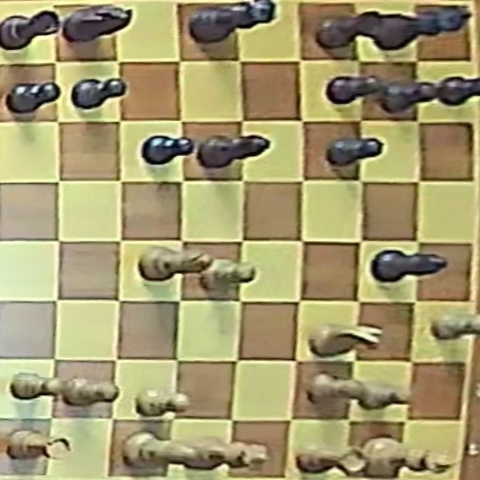black-bishop: (372, 250, 447, 283), (198, 135, 269, 168)
black-king: (371, 5, 469, 51)
black-knight: (63, 4, 132, 43)
black-pawn: (377, 80, 441, 113), (7, 81, 61, 115), (327, 75, 387, 105), (72, 78, 127, 110), (326, 137, 383, 167), (436, 73, 480, 109), (143, 135, 194, 165)
black-queen: (190, 0, 275, 43)
black-rook: (314, 8, 383, 54), (0, 10, 60, 51)
white-bishop: (122, 431, 199, 468), (140, 246, 214, 281)
white-king: (359, 437, 452, 474)
white-knight: (310, 323, 381, 357)
white-pawn: (198, 258, 256, 293), (307, 373, 364, 405), (58, 378, 120, 407), (353, 380, 410, 408), (134, 388, 188, 417), (9, 372, 57, 400), (434, 314, 480, 340)
white-queen: (182, 436, 272, 473)
white-rook: (295, 446, 365, 475), (5, 431, 71, 461)
